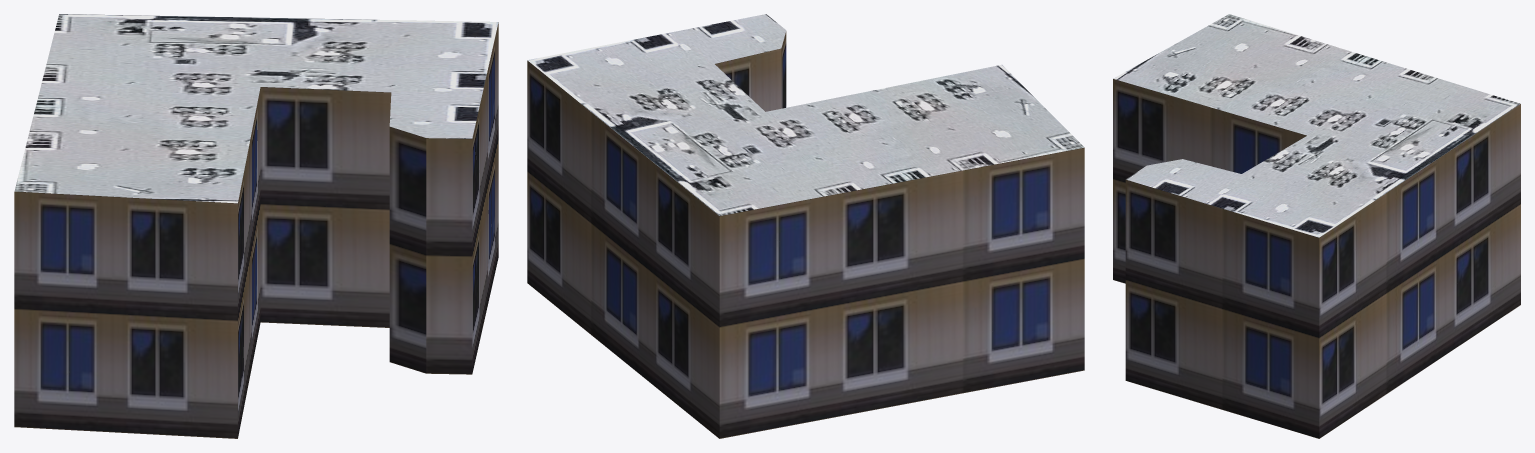
The model's file is ResTex__3328.fbx.
The picture shows the model from 3 angles, left to right: view 1: azimuth 30°, elevation 25°; view 2: azimuth 150°, elevation 25°; view 3: azimuth 270°, elevation 25°; orthographic projection. The views are drawn at different scales.
Visible parts, largest first — view 1: CityEngineMaterial_5_m, CityEngineMaterial_m; view 2: CityEngineMaterial_5_m, CityEngineMaterial_m; view 3: CityEngineMaterial_5_m, CityEngineMaterial_m.
Boxes of the visible parts, x1,y1,x2,y2 form: CityEngineMaterial_5_m: (14, 22, 498, 438); CityEngineMaterial_m: (14, 14, 498, 203); CityEngineMaterial_5_m: (527, 31, 1084, 438); CityEngineMaterial_m: (527, 14, 1084, 215); CityEngineMaterial_5_m: (1113, 79, 1520, 438); CityEngineMaterial_m: (1113, 14, 1520, 237).
Bounding box in the file's own units: 14.31 × 6 × 11.02.
2 materials, 2 textured.
